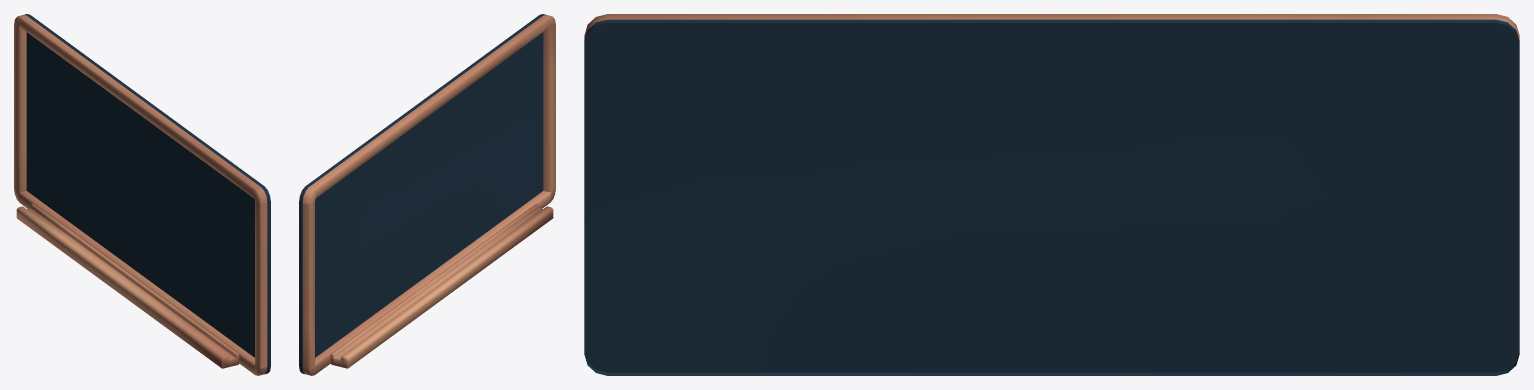
The model's file is Chlakboard2.fbx.
3 renders of one model, left to right at view 1: azimuth 30°, elevation 25°; view 2: azimuth 150°, elevation 25°; view 3: azimuth 270°, elevation 25°, orthographic. The views are drawn at different scales.
Parts seen in each view (by area): view 1: Chlakboard2; view 2: Chlakboard2; view 3: Chlakboard2.
Boxes of the visible parts, x1,y1,x2,y2 form: Chlakboard2: [14, 14, 270, 375]; Chlakboard2: [299, 14, 555, 375]; Chlakboard2: [584, 14, 1519, 375].
Bounding box in the file's own units: 4.58 × 0.3052 × 1.91.
